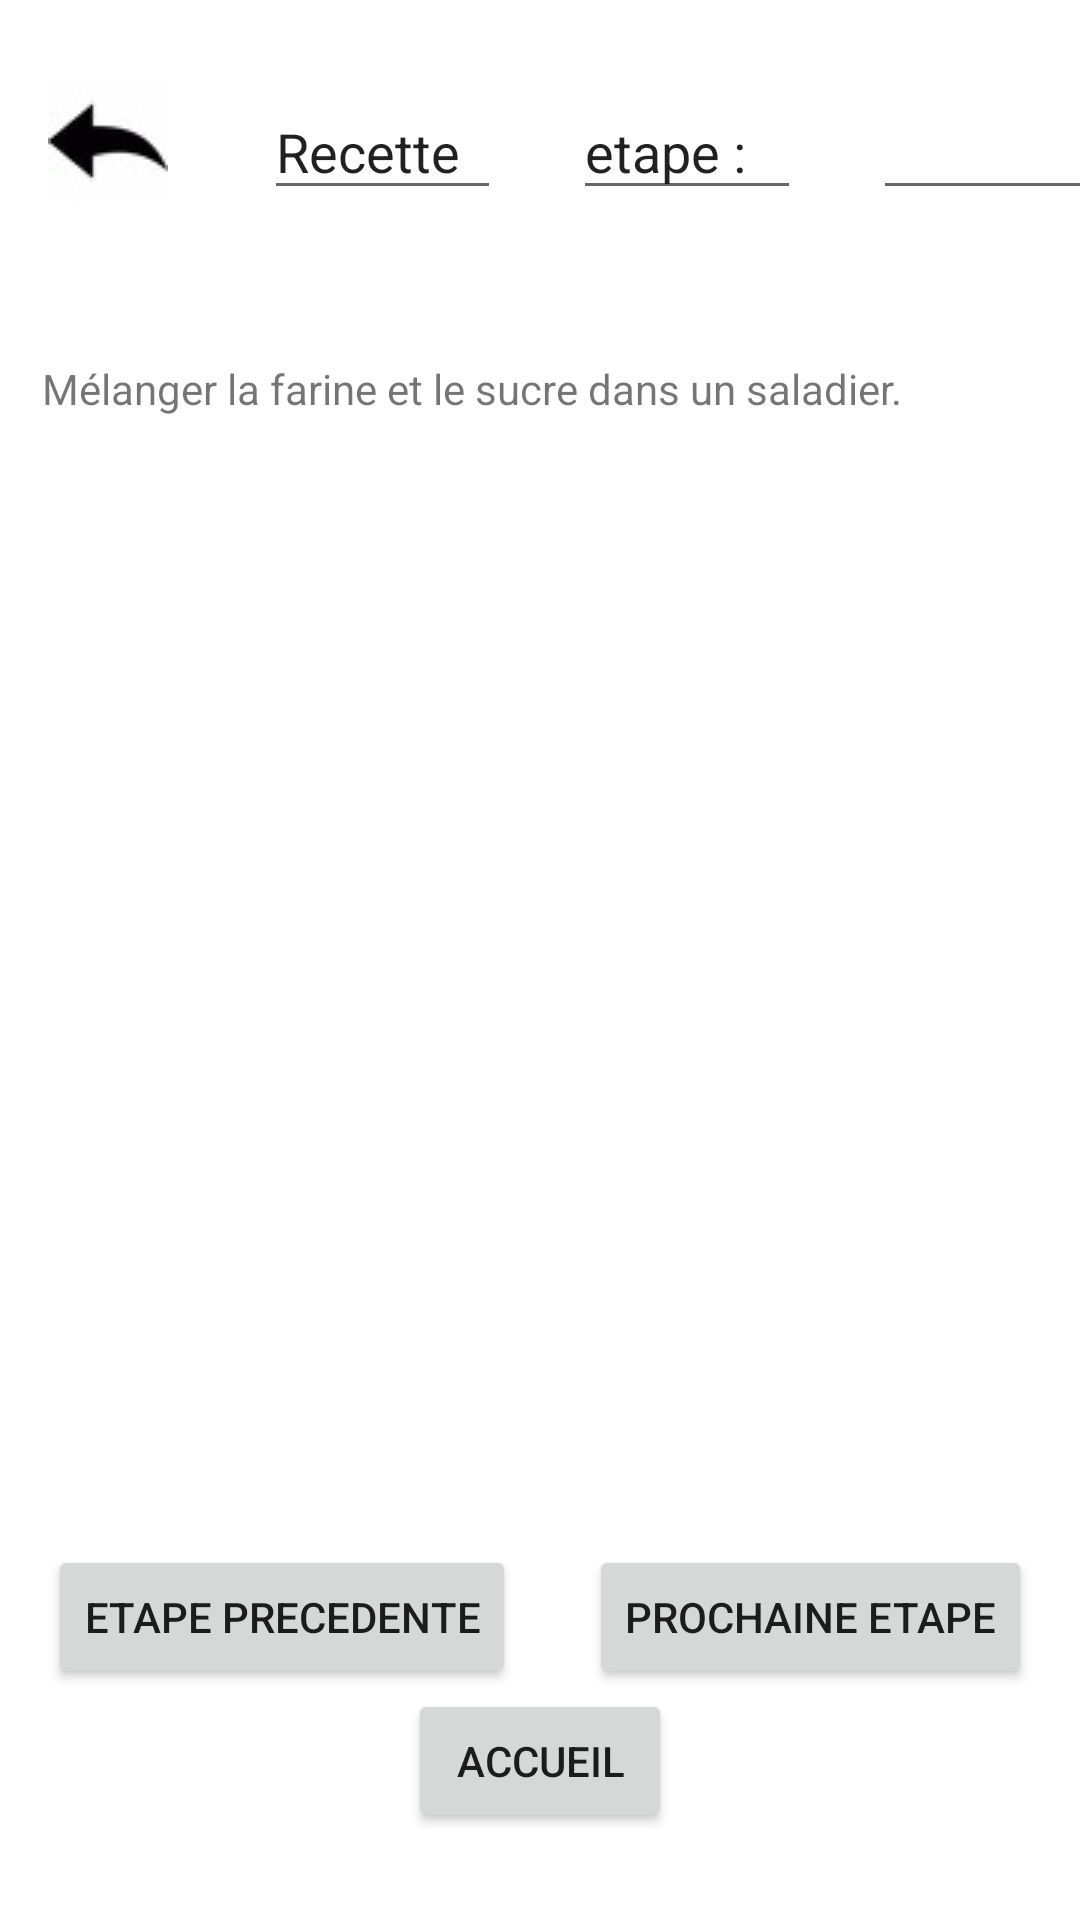

Where to tap for icons on this 1080w x 1920h app screen, as [x,y]:
fleche retour: [108,141]
